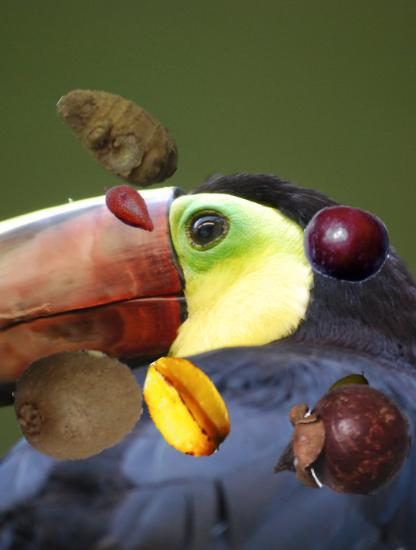Carambula: (131, 352, 241, 462)
Ginger: (50, 67, 186, 203)
Kiwi: (11, 339, 144, 472)
Mangostan: (274, 369, 414, 509)
Pear: (320, 368, 379, 427)
Plum: (302, 199, 391, 288)
Salak: (97, 174, 164, 241)
